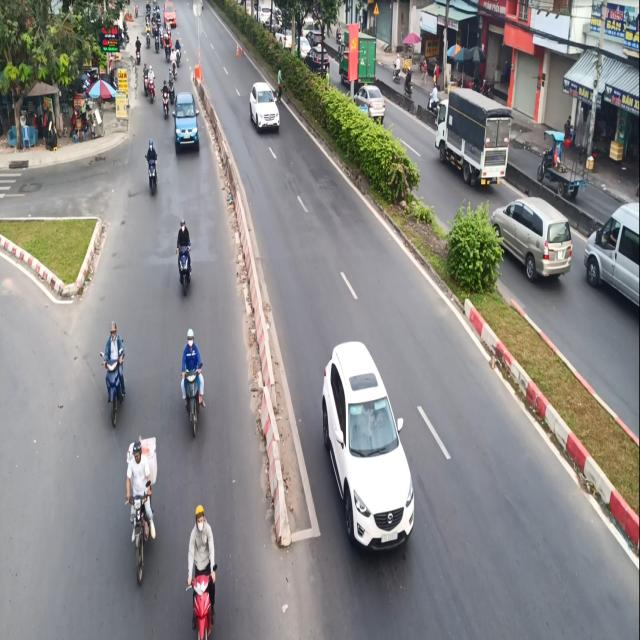car: (316, 337, 421, 562), (245, 73, 283, 146), (172, 82, 201, 160)
motor: (123, 422, 160, 583), (179, 504, 222, 640), (99, 313, 131, 426), (178, 323, 207, 432), (175, 216, 200, 306), (144, 134, 159, 206)
